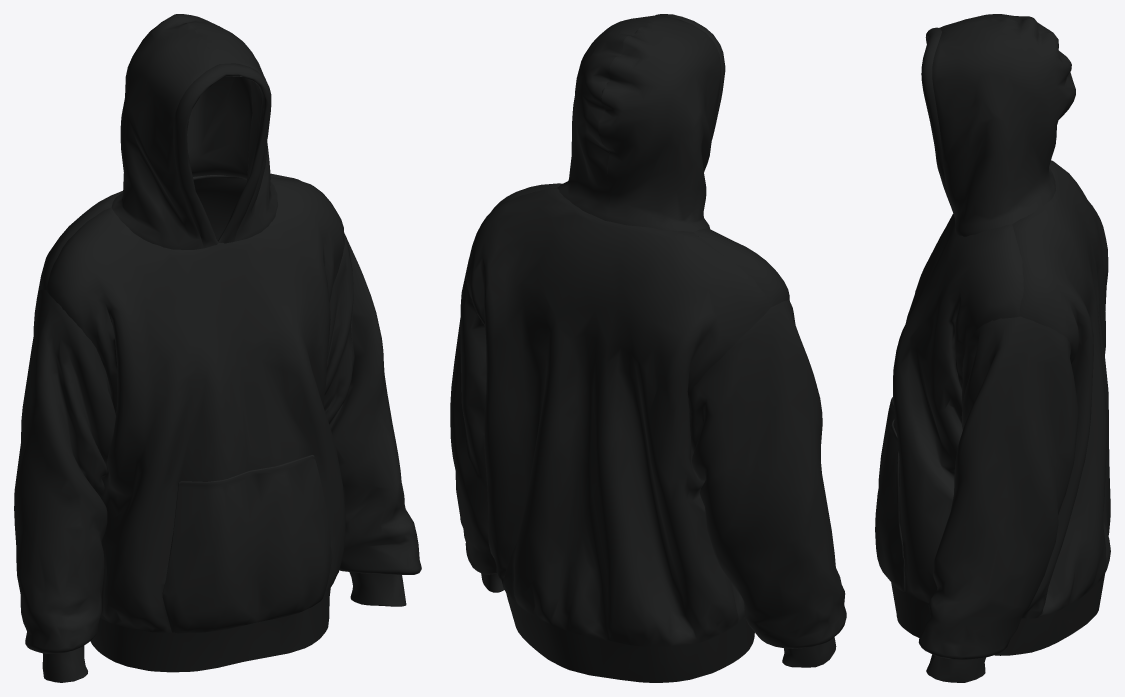
File: hoodie-3.glb
3 renders of one model, left to right at view 1: azimuth 30°, elevation 25°; view 2: azimuth 150°, elevation 25°; view 3: azimuth 270°, elevation 25°, orthographic. The views are drawn at different scales.
Parts seen in each view (by area): view 1: Hero-Hoodie; view 2: Hero-Hoodie; view 3: Hero-Hoodie.
Boxes of the visible parts, x1,y1,x2,y2 form: Hero-Hoodie: (14, 14, 421, 682); Hero-Hoodie: (450, 14, 846, 682); Hero-Hoodie: (875, 14, 1110, 682).
Bounding box in the file's own units: 1.29 × 2 × 0.7312.
1 material, 1 textured.
